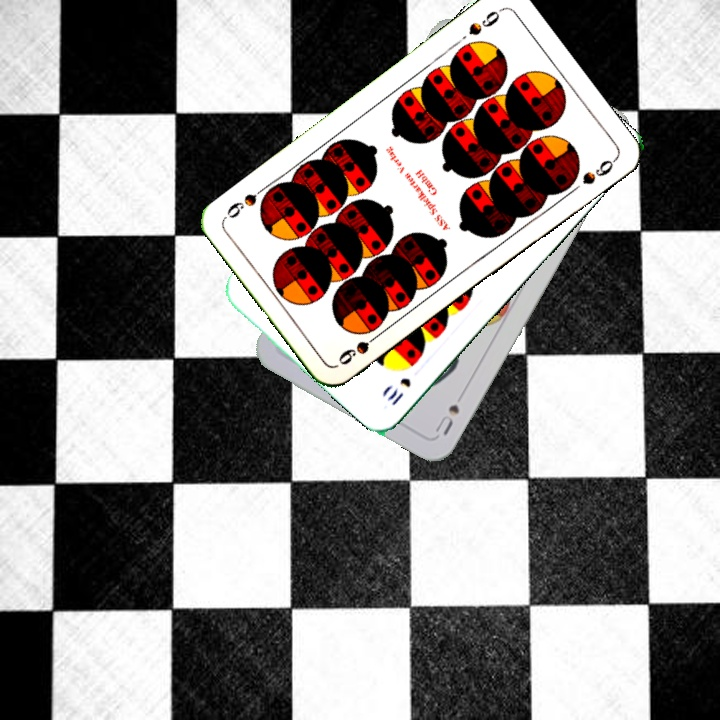S10: (383, 373, 414, 409)
S9: (334, 327, 385, 368), (464, 4, 505, 39)
SU: (431, 400, 462, 438)
